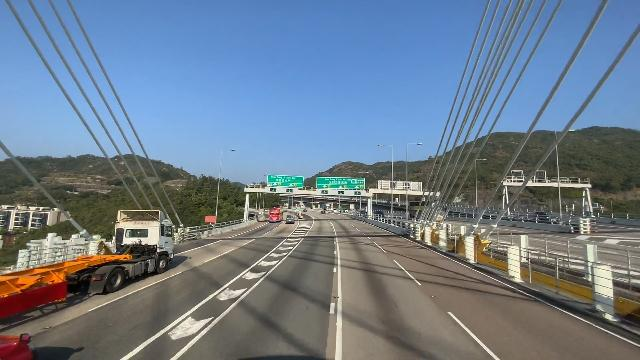bus: (269, 205, 282, 223)
car: (0, 260, 73, 351), (285, 215, 295, 224), (321, 210, 326, 214), (303, 209, 307, 212)
truck: (0, 207, 175, 319)
